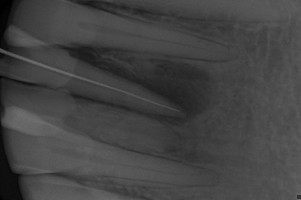Furcation Involvement: (143, 57, 214, 124)
